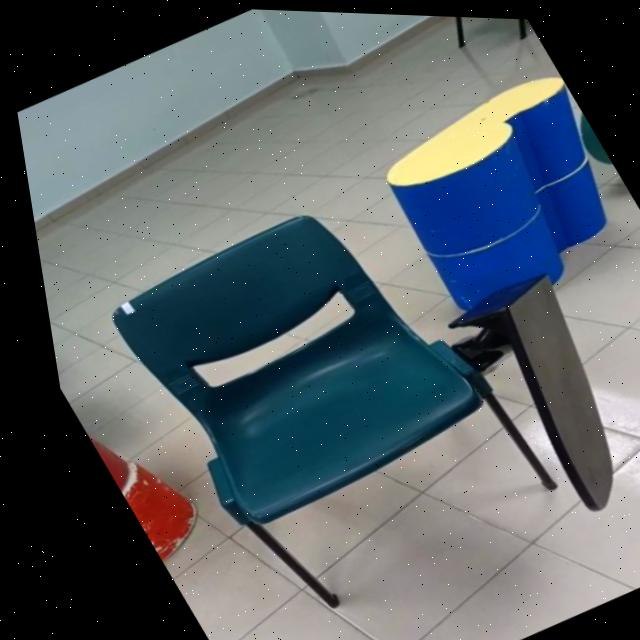sandalye: (103, 213, 542, 605)
